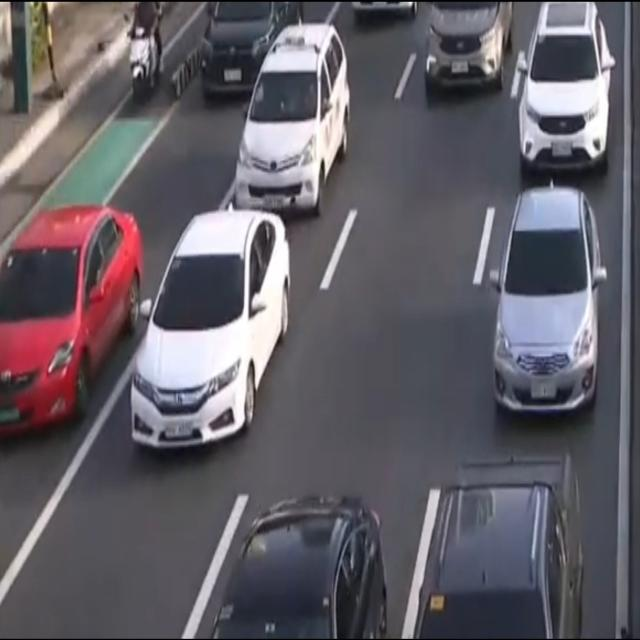Motorcycle: (127, 0, 165, 119)
SUV: (409, 446, 587, 636), (225, 16, 355, 220), (514, 0, 618, 184), (421, 0, 516, 104)
Sedan: (127, 194, 296, 462), (0, 197, 149, 454), (476, 185, 610, 428), (201, 486, 392, 640), (196, 0, 309, 105)
